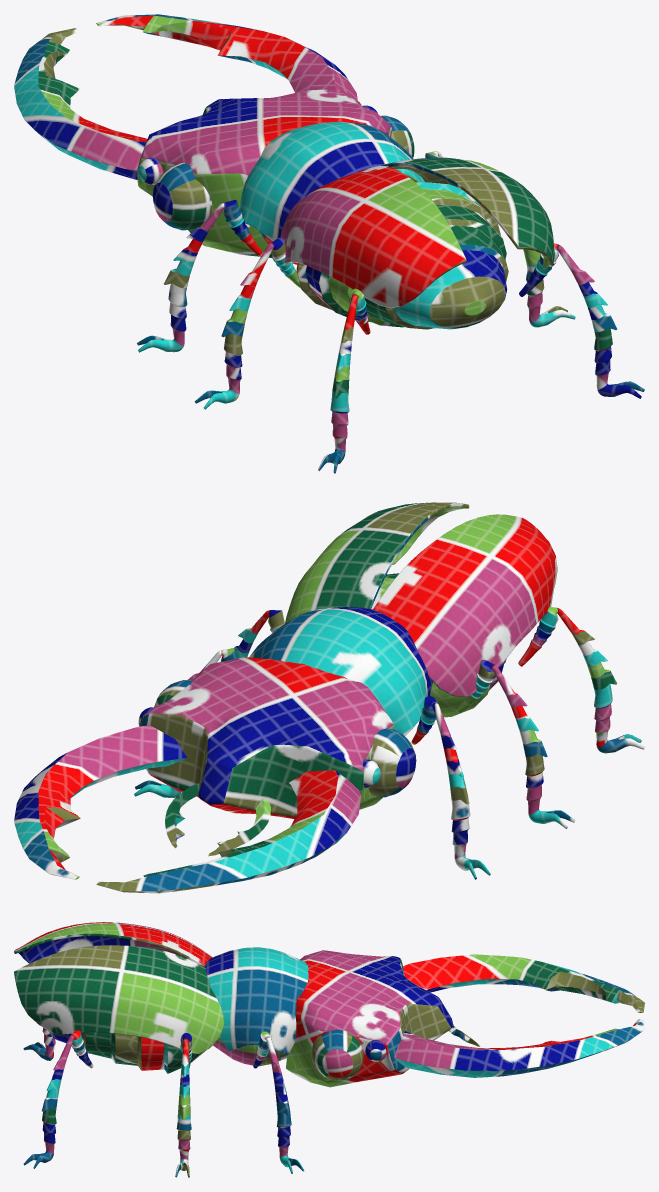
3 views of the same model, one above another, from view 1: azimuth 30°, elevation 25°; view 2: azimuth 150°, elevation 25°; view 3: azimuth 270°, elevation 25° (orthographic). The views are drawn at different scales.
Parts seen in each view (by area): view 1: Object029, Plane003, Object005, Plane026, Plane027, Object026, Object034, Object036, Object038, Object040, Object032, Object037; view 2: Plane003, Object005, Object029, Plane026, Plane027, Object026, Object038, Object040, Object036, Object041, Object030, Object039 (+2 smaller); view 3: Object026, Plane003, Object029, Plane027, Plane026, Object005, Object034, Object030, Object032, Object040, Object035.
Part boxes in pixels (<box>): Object029: <box>239,122,508,329</box>; Plane003: <box>137,88,414,257</box>; Object005: <box>280,166,466,308</box>; Plane026: <box>14,28,147,179</box>; Plane027: <box>96,14,357,100</box>; Object026: <box>380,157,554,270</box>; Object034: <box>557,244,644,398</box>; Object036: <box>137,202,224,352</box>; Object038: <box>194,242,274,409</box>; Object040: <box>318,294,358,473</box>; Object032: <box>523,249,575,327</box>; Object037: <box>223,199,263,256</box>; Plane003: <box>138,657,416,856</box>; Object005: <box>373,514,557,696</box>; Object029: <box>249,573,506,735</box>; Plane026: <box>96,770,361,893</box>; Plane027: <box>14,725,187,879</box>; Object026: <box>285,502,469,623</box>; Object038: <box>491,664,574,828</box>; Object040: <box>557,608,644,753</box>; Object036: <box>432,702,490,879</box>; Object041: <box>518,607,558,666</box>; Object030: <box>134,650,221,797</box>; Object039: <box>457,659,494,712</box>; Object026: <box>14,945,224,1054</box>; Plane003: <box>286,950,480,1087</box>; Object029: <box>48,947,308,1073</box>; Plane027: <box>394,1019,644,1077</box>; Plane026: <box>403,954,644,1012</box>; Object005: <box>14,922,212,966</box>; Object034: <box>23,1034,74,1168</box>; Object030: <box>266,1036,304,1173</box>; Object032: <box>175,1038,191,1177</box>; Object040: <box>23,1027,55,1060</box>; Object035: <box>71,1030,93,1068</box>.
Bounding box in the file's own units: 40.97 × 23.16 × 77.61.
1 material, 1 textured.
